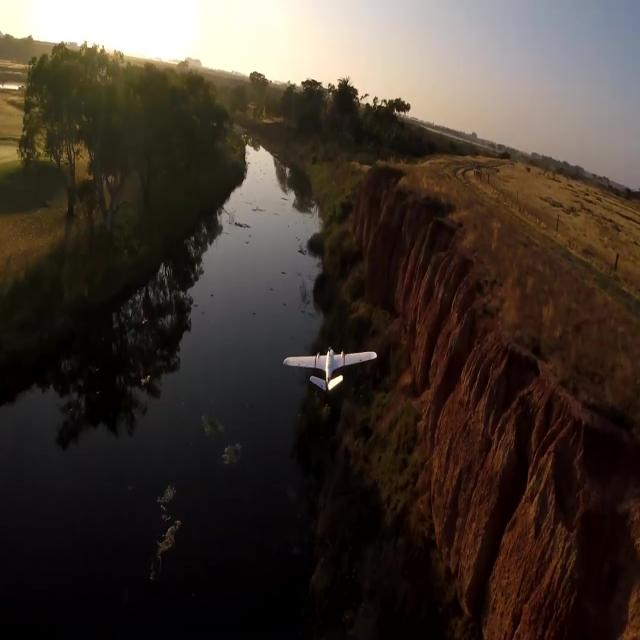iha: (309, 346, 340, 392)
